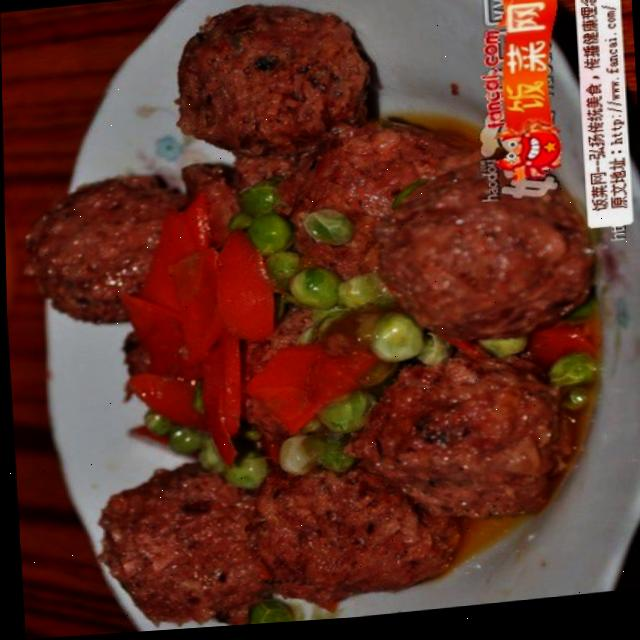猪肉菜式: (27, 3, 549, 623)
